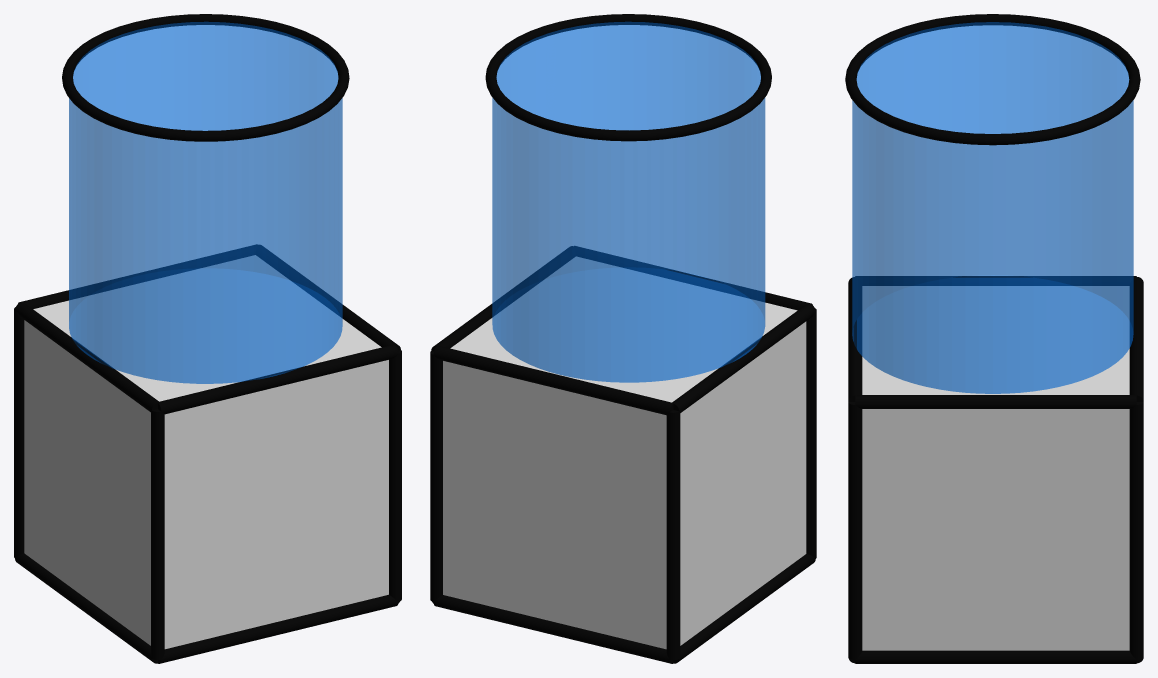
The picture shows the model from 3 angles, left to right: view 1: azimuth 30°, elevation 25°; view 2: azimuth 150°, elevation 25°; view 3: azimuth 270°, elevation 25°; orthographic projection. The views are drawn at different scales.
Visible parts, largest first — view 1: Cube, ReferenceCylinder, TopRing, EdgeLine.008, EdgeLine.004, EdgeLine, EdgeLine.009, EdgeLine.011, EdgeLine.006, EdgeLine.007, EdgeLine.003, EdgeLine.005; view 2: Cube, ReferenceCylinder, TopRing, EdgeLine.011, EdgeLine.006, EdgeLine.002, EdgeLine.010, EdgeLine.008, EdgeLine.004, EdgeLine.007, EdgeLine.003, EdgeLine.005; view 3: Cube, ReferenceCylinder, TopRing, EdgeLine.005, EdgeLine.001, EdgeLine.009, EdgeLine.010, EdgeLine.007, EdgeLine.006, EdgeLine.004.
Boxes of the visible parts, bbox=[...] form: Cube: bbox=[24, 255, 388, 649]; ReferenceCylinder: bbox=[69, 22, 342, 383]; TopRing: bbox=[62, 14, 349, 141]; EdgeLine.008: bbox=[151, 409, 164, 660]; EdgeLine.004: bbox=[158, 345, 398, 414]; EdgeLine: bbox=[158, 594, 398, 663]; EdgeLine.009: bbox=[389, 350, 401, 601]; EdgeLine.011: bbox=[14, 307, 24, 557]; EdgeLine.006: bbox=[18, 244, 257, 308]; EdgeLine.007: bbox=[15, 302, 158, 412]; EdgeLine.003: bbox=[15, 553, 157, 663]; EdgeLine.005: bbox=[256, 245, 400, 350]; Cube: bbox=[443, 256, 806, 649]; ReferenceCylinder: bbox=[492, 22, 765, 382]; TopRing: bbox=[485, 14, 771, 141]; EdgeLine.011: bbox=[666, 410, 680, 660]; EdgeLine.006: bbox=[433, 346, 673, 415]; EdgeLine.002: bbox=[433, 595, 673, 663]; EdgeLine.010: bbox=[430, 351, 442, 601]; EdgeLine.008: bbox=[806, 308, 816, 558]; EdgeLine.004: bbox=[574, 246, 812, 310]; EdgeLine.007: bbox=[672, 304, 815, 412]; EdgeLine.003: bbox=[673, 554, 815, 663]; EdgeLine.005: bbox=[431, 246, 575, 351]; Cube: bbox=[862, 286, 1129, 650]; ReferenceCylinder: bbox=[852, 22, 1133, 393]; TopRing: bbox=[845, 14, 1140, 145]; EdgeLine.005: bbox=[855, 395, 1136, 408]; EdgeLine.001: bbox=[855, 650, 1136, 663]; EdgeLine.009: bbox=[848, 402, 862, 659]; EdgeLine.010: bbox=[1129, 402, 1143, 659]; EdgeLine.007: bbox=[855, 276, 1136, 285]; EdgeLine.006: bbox=[1129, 277, 1143, 401]; EdgeLine.004: bbox=[848, 277, 862, 401].
Size of the model in its own units: 213 by 414 by 212.
